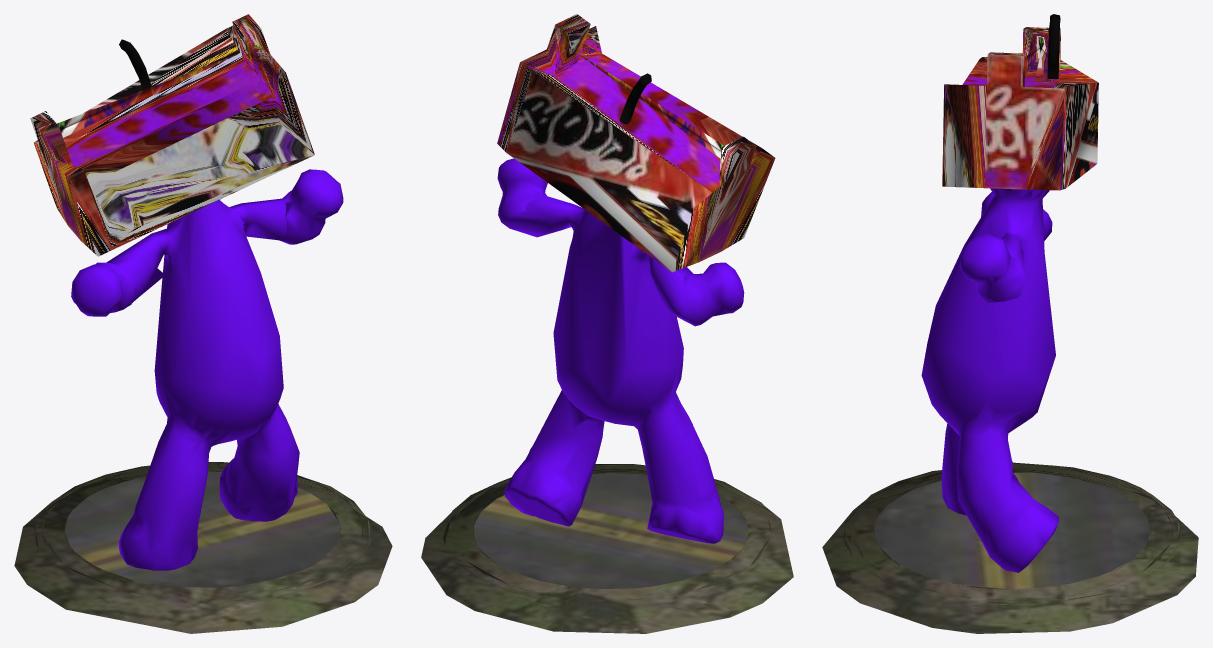
3 renders of one model, left to right at view 1: azimuth 30°, elevation 25°; view 2: azimuth 150°, elevation 25°; view 3: azimuth 270°, elevation 25°, orthographic.
Bounding box in the file's own units: 1.43 × 2.19 × 1.43.
Materials: 5 (3 with a texture image).
